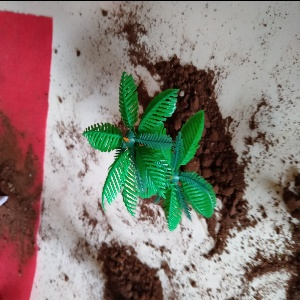plant: (80, 70, 226, 220)
